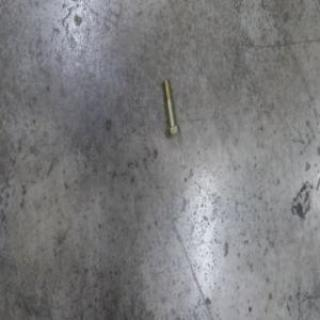Bolttrack_idkeyframe: (161, 80, 180, 141)
